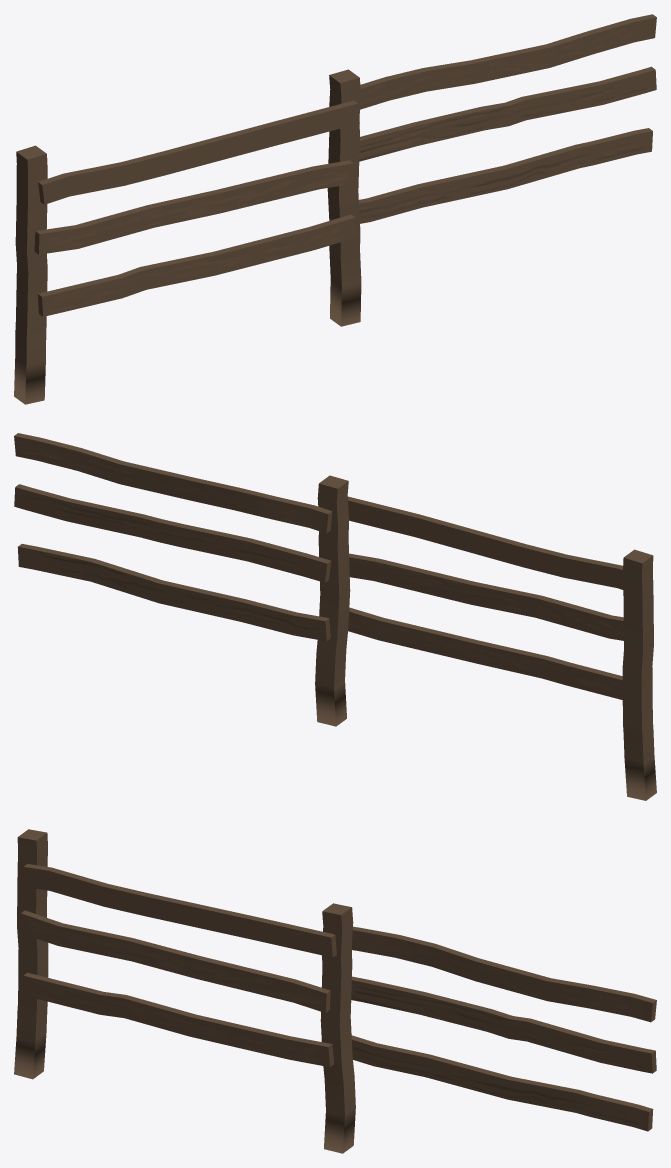
The model's file is FenceA.gltf.
3 views of the same model, one above another, from view 1: azimuth 30°, elevation 25°; view 2: azimuth 150°, elevation 25°; view 3: azimuth 330°, elevation 25° (orthographic). The views are drawn at different scales.
Parts seen in each view (by area): view 1: FenceA; view 2: FenceA; view 3: FenceA.
Boxes of the visible parts, x1=… form: FenceA: x1=14, y1=14, x2=656, y2=404; FenceA: x1=14, y1=433, x2=656, y2=800; FenceA: x1=14, y1=829, x2=656, y2=1153.
Size of the model in its own units: 4.11 by 1.5 by 0.2493.
1 material, 1 textured.
